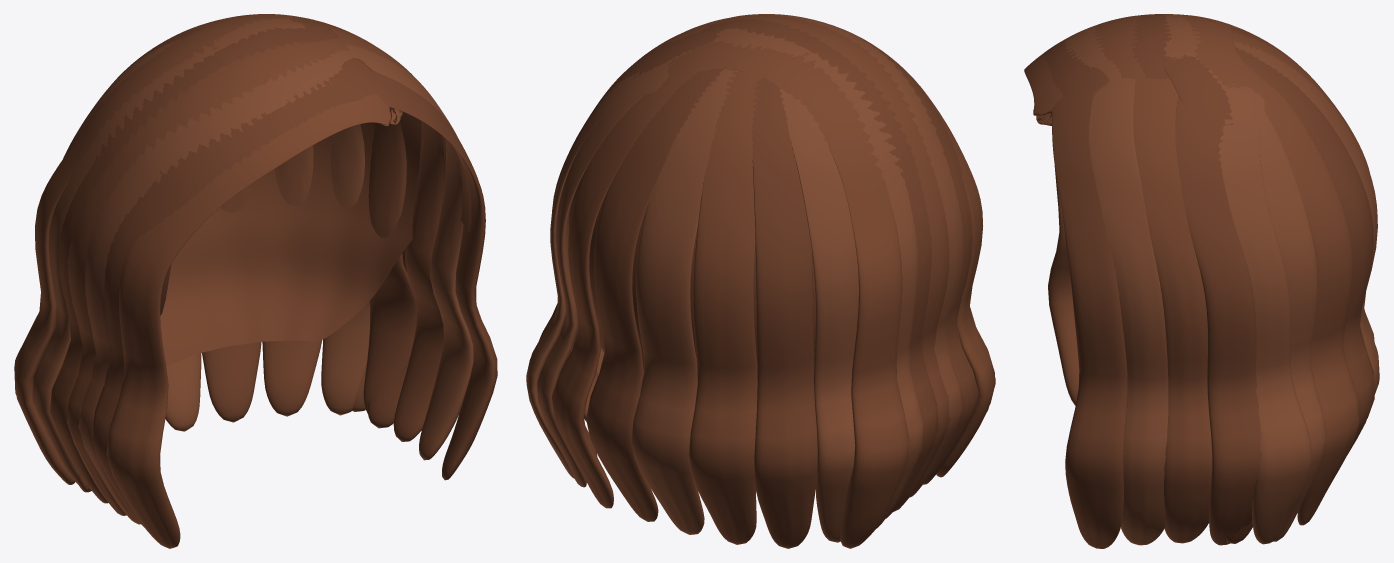
The model's file is Feminine-Feminine-straight-cap261-hair-2c499f7c.glb.
3 views of the same model, side by side, from view 1: azimuth 30°, elevation 25°; view 2: azimuth 150°, elevation 25°; view 3: azimuth 270°, elevation 25° (orthographic). The views are drawn at different scales.
Parts seen in each view (by area): view 1: 226 hair / Hair / sculpted 0.001, 226 hair / Hair / sculpted 1.002, 226 hair / Hair / sculpted 2.001, 226 hair / Hair / sculpted 1.001; view 2: 226 hair / Hair / sculpted 0.001, 226 hair / Hair / sculpted 2.001, 226 hair / Hair / sculpted 1.002, 226 hair / Hair / sculpted 1.001; view 3: 226 hair / Hair / sculpted 1.002, 226 hair / Hair / sculpted 2.001, 226 hair / Hair / sculpted 0.001.
Part boxes in pixels (x1,y1,x2,y2): 226 hair / Hair / sculpted 0.001: (14, 14, 444, 548); 226 hair / Hair / sculpted 1.002: (50, 14, 497, 526); 226 hair / Hair / sculpted 2.001: (32, 16, 473, 524); 226 hair / Hair / sculpted 1.001: (160, 112, 471, 366); 226 hair / Hair / sculpted 0.001: (552, 15, 995, 548); 226 hair / Hair / sculpted 2.001: (526, 14, 963, 542); 226 hair / Hair / sculpted 1.002: (539, 14, 978, 548); 226 hair / Hair / sculpted 1.001: (569, 175, 815, 370); 226 hair / Hair / sculpted 1.002: (1043, 14, 1374, 548); 226 hair / Hair / sculpted 2.001: (1065, 14, 1379, 545); 226 hair / Hair / sculpted 0.001: (1024, 14, 1374, 543).
Size of the model in its own units: 0.8562 by 0.9504 by 0.6819.
